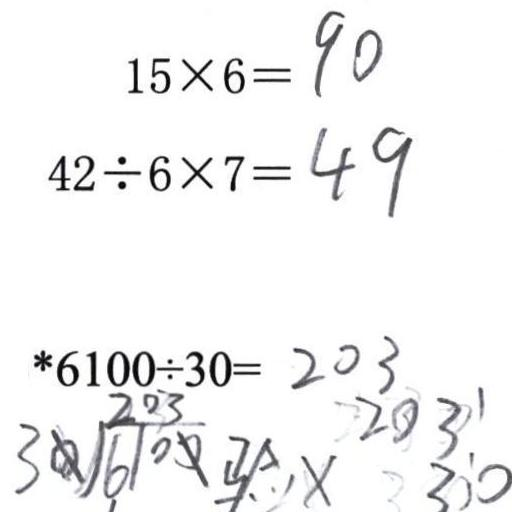ans: (304, 114, 413, 216), (304, 2, 381, 94), (293, 332, 400, 394)
